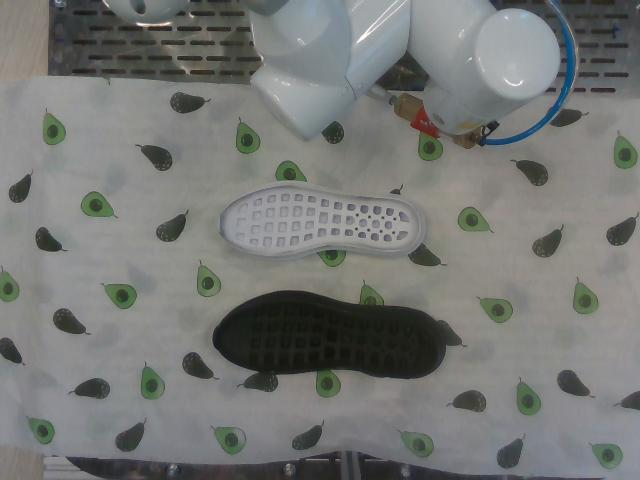shoes: (214, 301, 438, 377), (219, 185, 420, 256)
